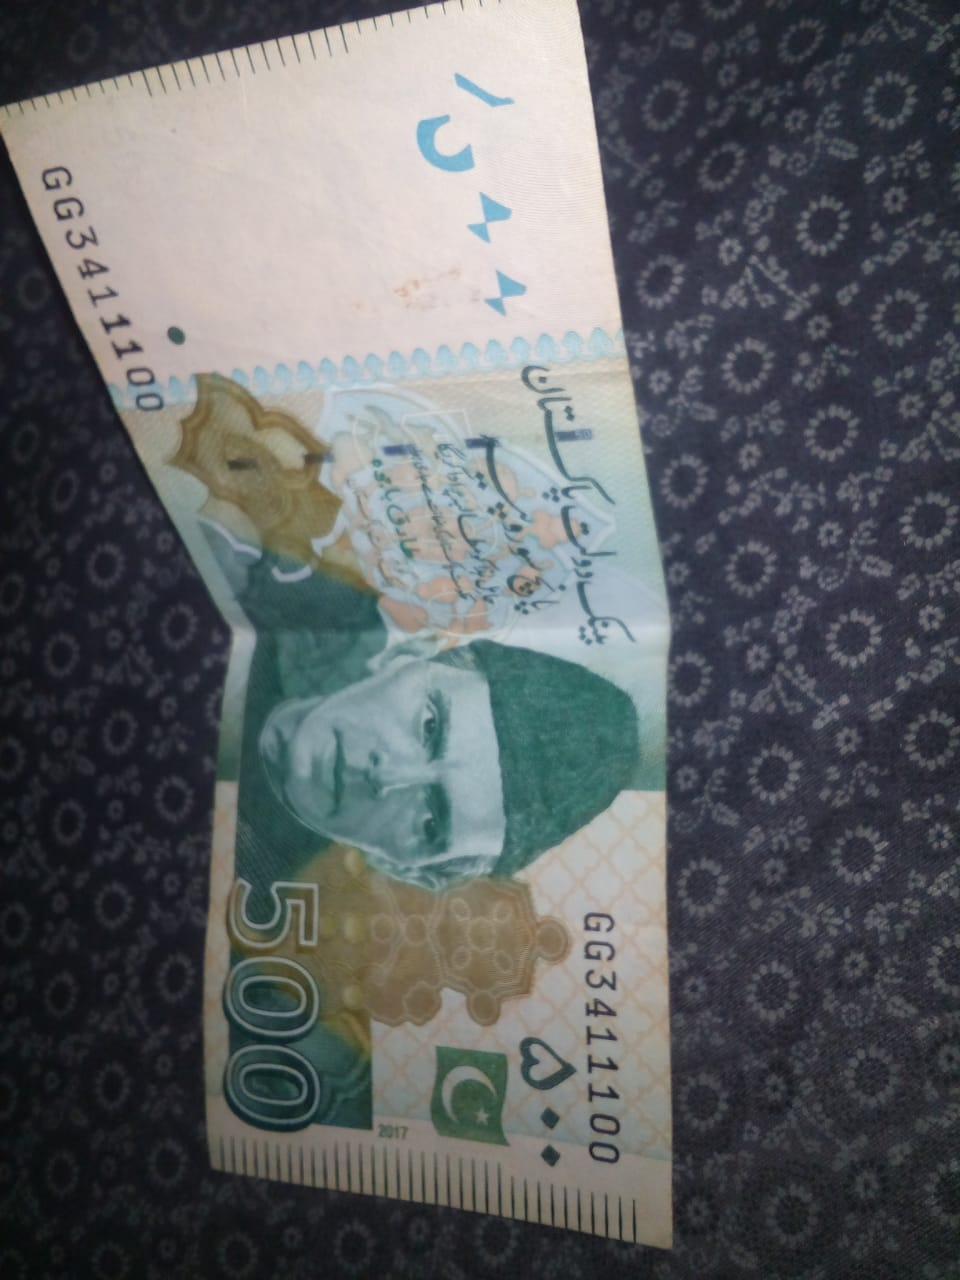500 rupee: (20, 30, 698, 1261)
